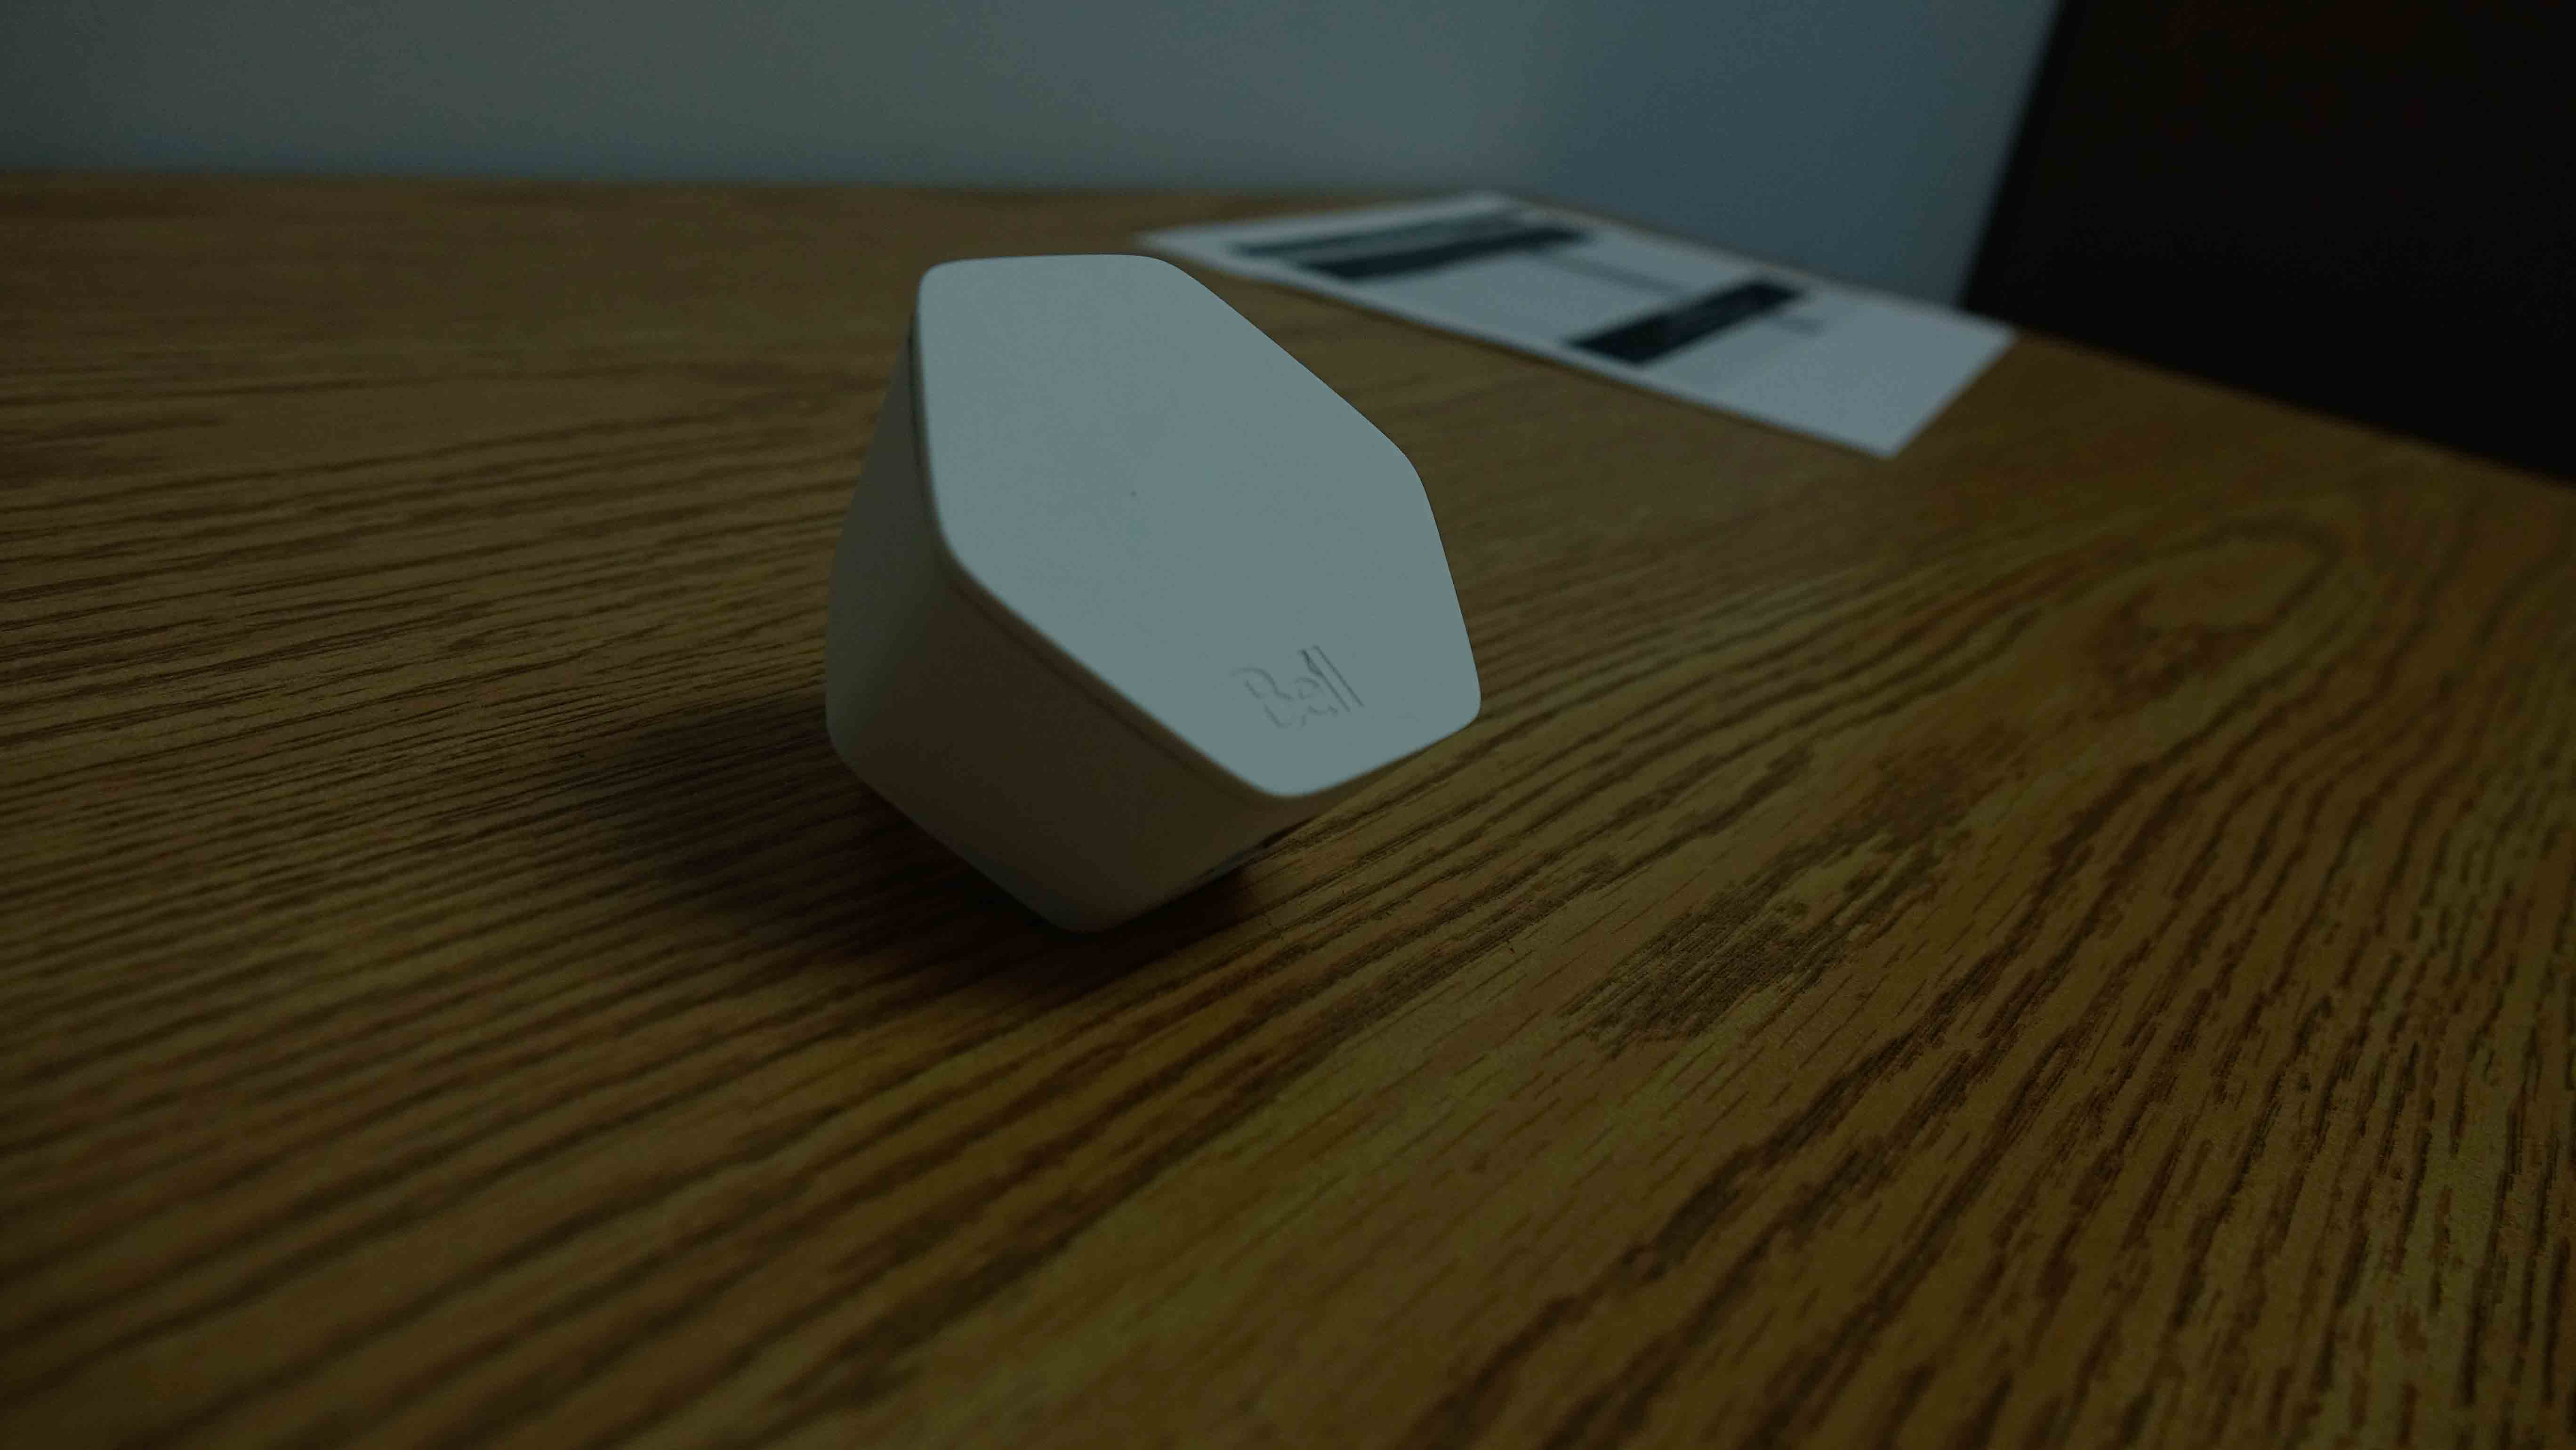pod: (801, 233, 1513, 951)
